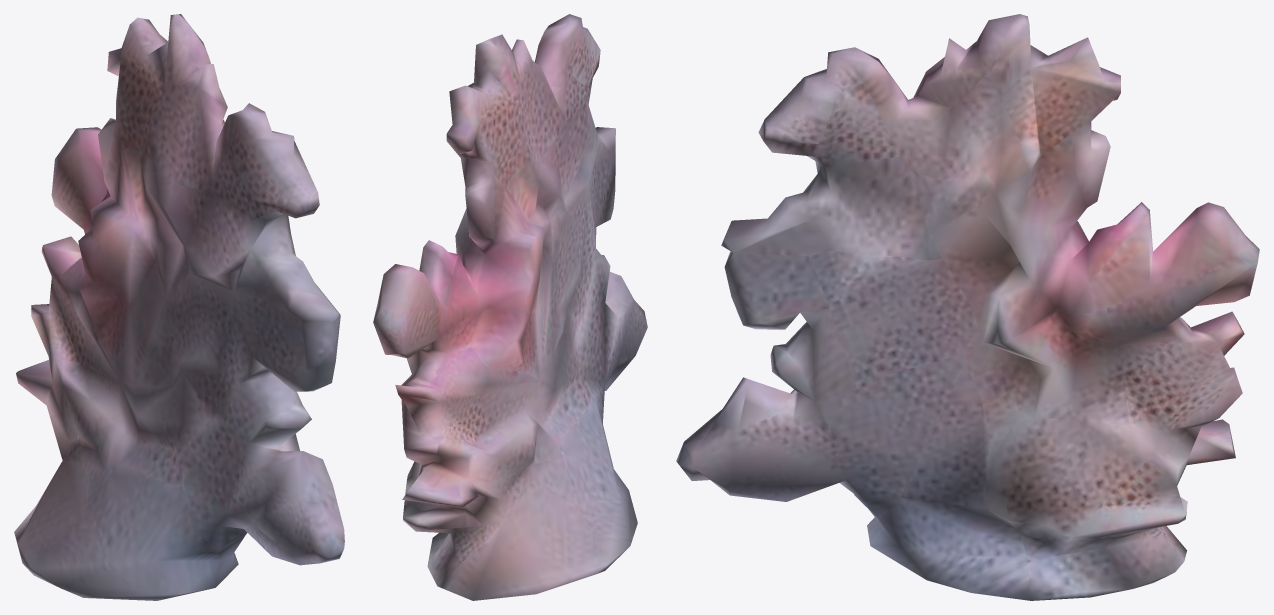
File: tube-coral.glb
The picture shows the model from 3 angles, left to right: view 1: azimuth 30°, elevation 25°; view 2: azimuth 150°, elevation 25°; view 3: azimuth 270°, elevation 25°; orthographic projection. The views are drawn at different scales.
Visible parts, largest first — view 1: tripo_node_27eafcc0-b69c-4913-be4c-deb12782831d; view 2: tripo_node_27eafcc0-b69c-4913-be4c-deb12782831d; view 3: tripo_node_27eafcc0-b69c-4913-be4c-deb12782831d.
Part boxes in pixels (x1,y1,x2,y2): tripo_node_27eafcc0-b69c-4913-be4c-deb12782831d: (14, 14, 344, 600); tripo_node_27eafcc0-b69c-4913-be4c-deb12782831d: (373, 14, 647, 600); tripo_node_27eafcc0-b69c-4913-be4c-deb12782831d: (676, 14, 1259, 600).
Size of the model in its own units: 0.3197 by 0.9441 by 0.8614.
Materials: 1 (1 with a texture image).
